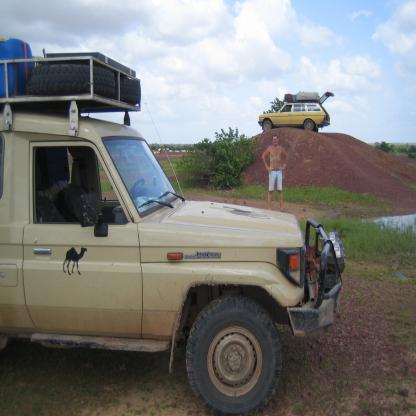Car: (258, 92, 335, 130)
